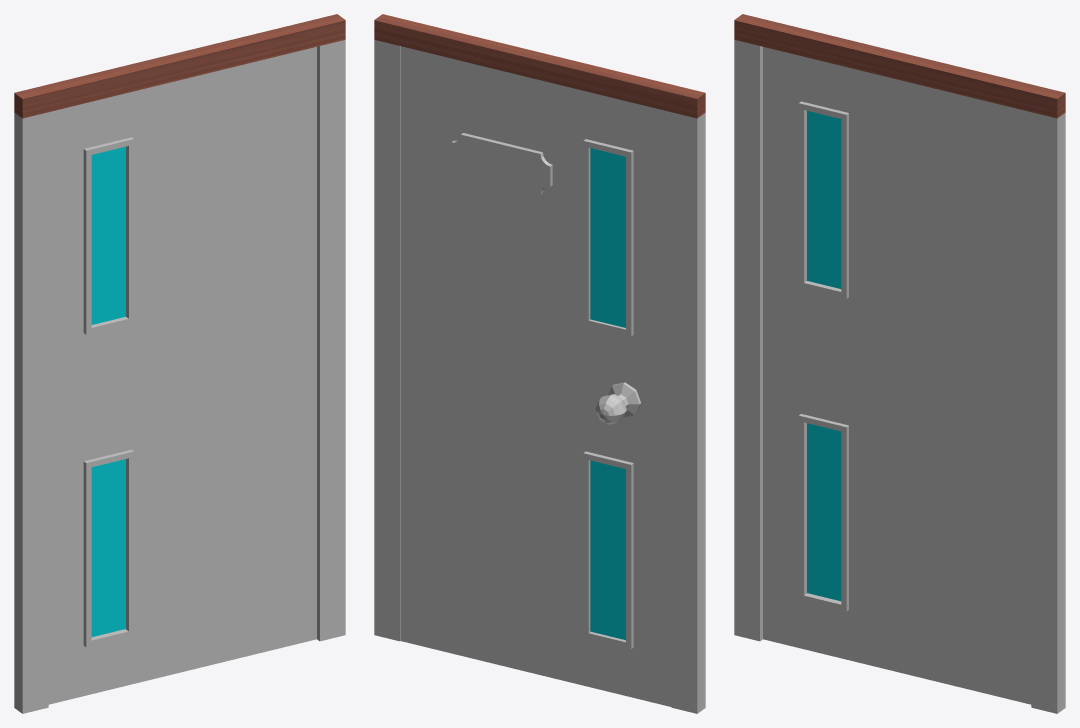
Rendered from Door_Staffroom.fbx.
The picture shows the model from 3 angles, left to right: view 1: azimuth 30°, elevation 25°; view 2: azimuth 150°, elevation 25°; view 3: azimuth 330°, elevation 25°; orthographic projection.
Parts seen in each view (by area): view 1: door, doorframe; view 2: door, doorframe; view 3: door, doorframe.
Boxes of the visible parts, bbox=[...] form: door: bbox=[48, 47, 316, 704]; doorframe: bbox=[14, 14, 345, 713]; door: bbox=[400, 46, 671, 706]; doorframe: bbox=[374, 14, 705, 713]; door: bbox=[763, 47, 1031, 704]; doorframe: bbox=[734, 14, 1065, 713].
Bounding box in the file's own units: 110 × 200 × 17.42.
